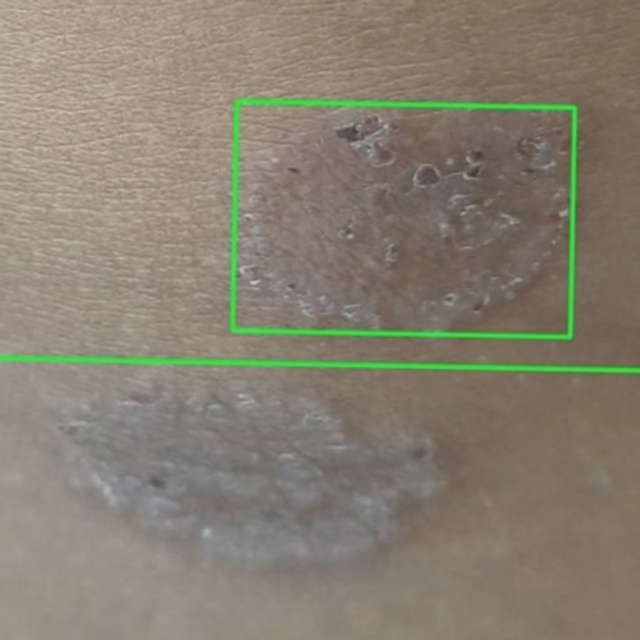Tinea Corporis: (0, 0, 639, 371), (232, 101, 574, 336)
